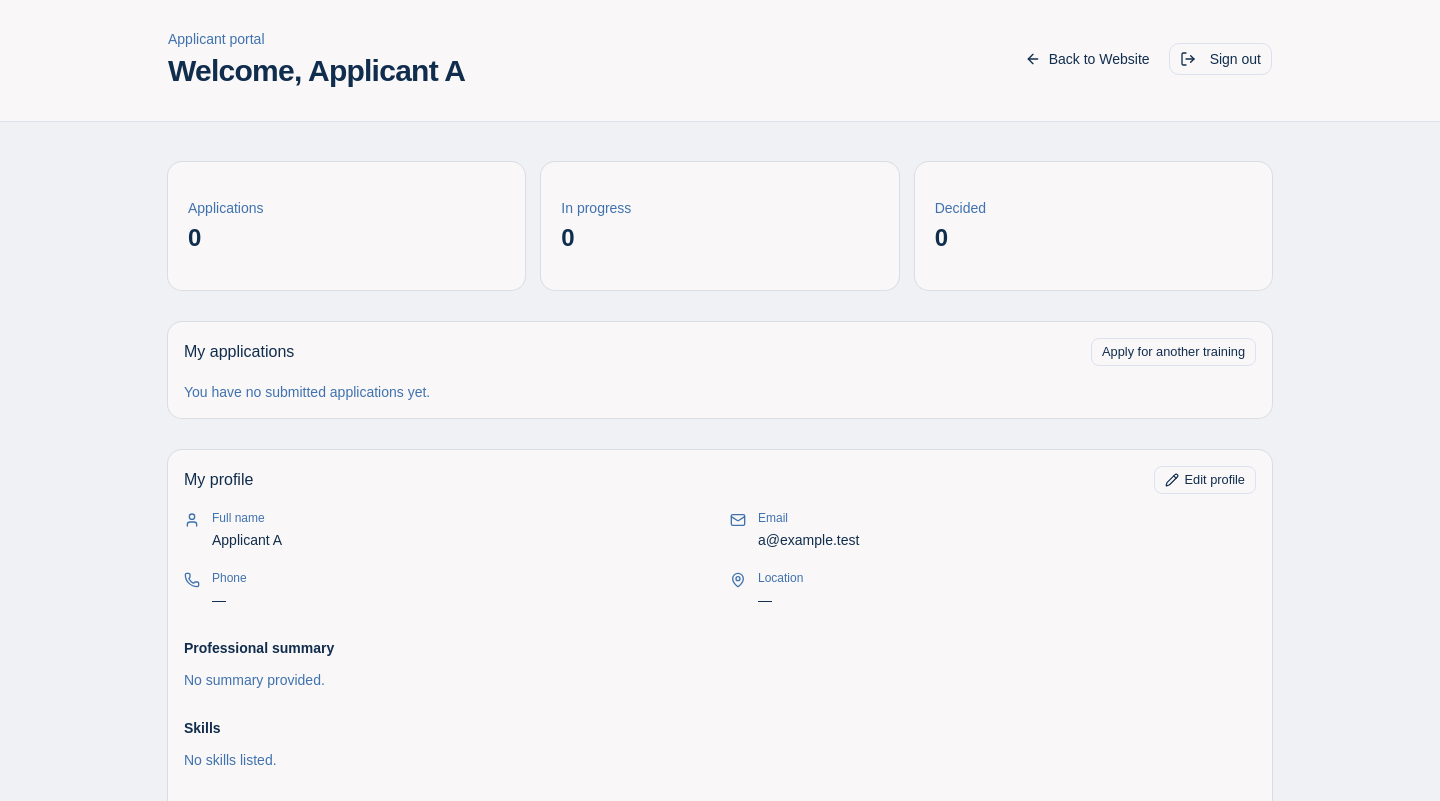
Test: ApplicantProfile: cache isolation between accounts › saves normally for the same user
This screenshot has width=1440, height=801.
Click the button "Edit profile" at (1205, 480), box x1=1154 y1=466 x2=1256 y2=494
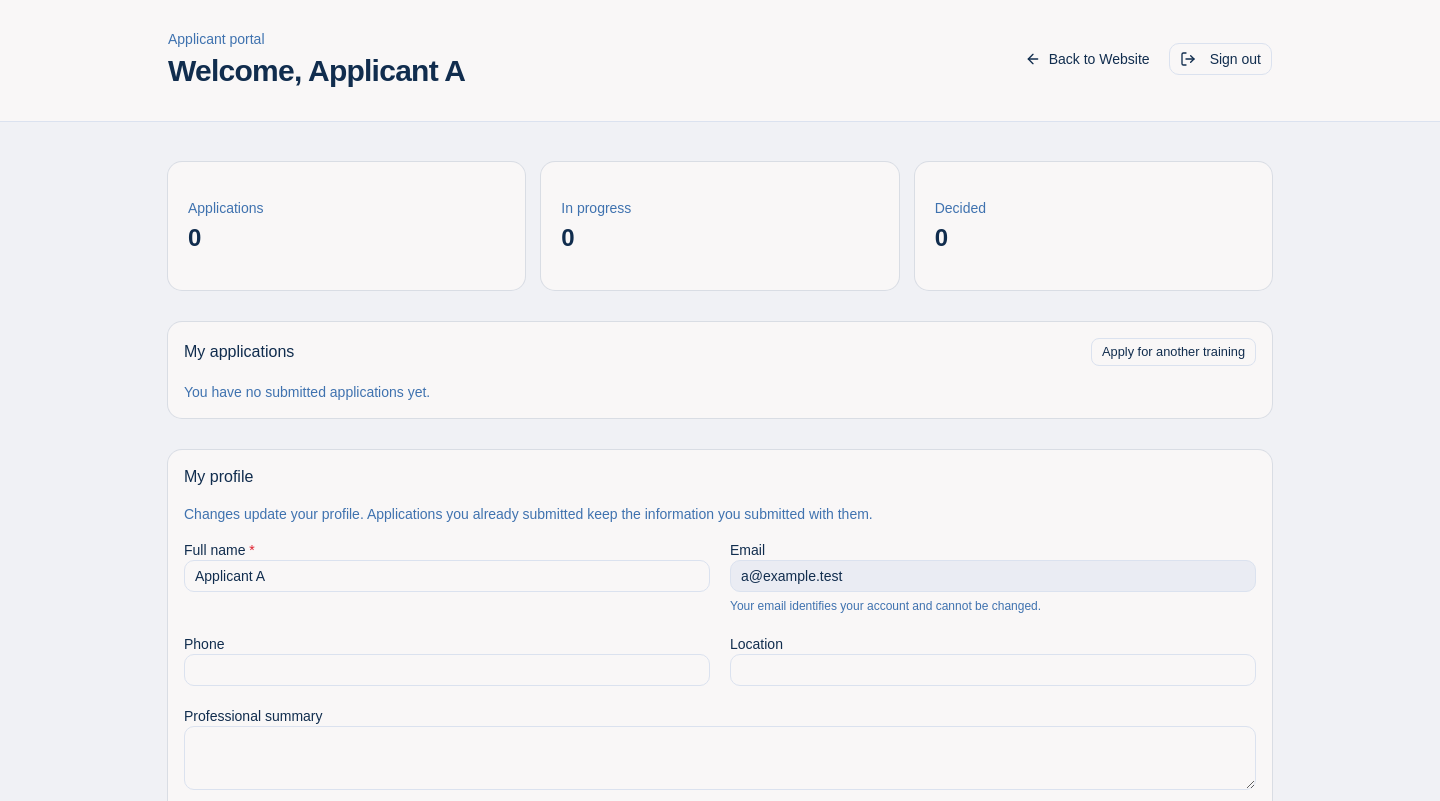
Replace the text in the field labelled "Full name *" with "Applicant A Renamed" at (447, 576), box x1=184 y1=560 x2=710 y2=592
(page scrolled)
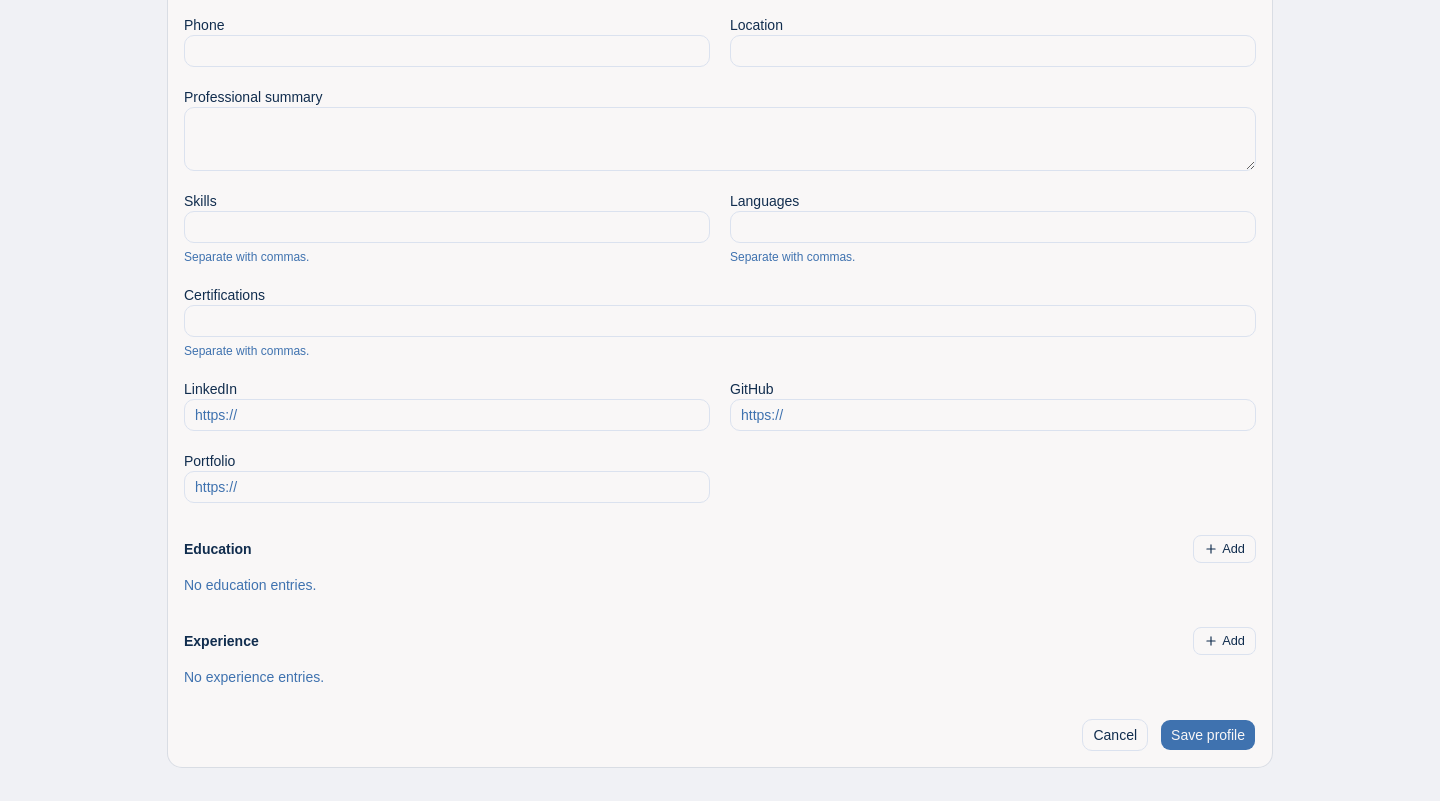
Click the button "Save profile" at (1208, 735), box x1=1160 y1=719 x2=1256 y2=751
(page scrolled)
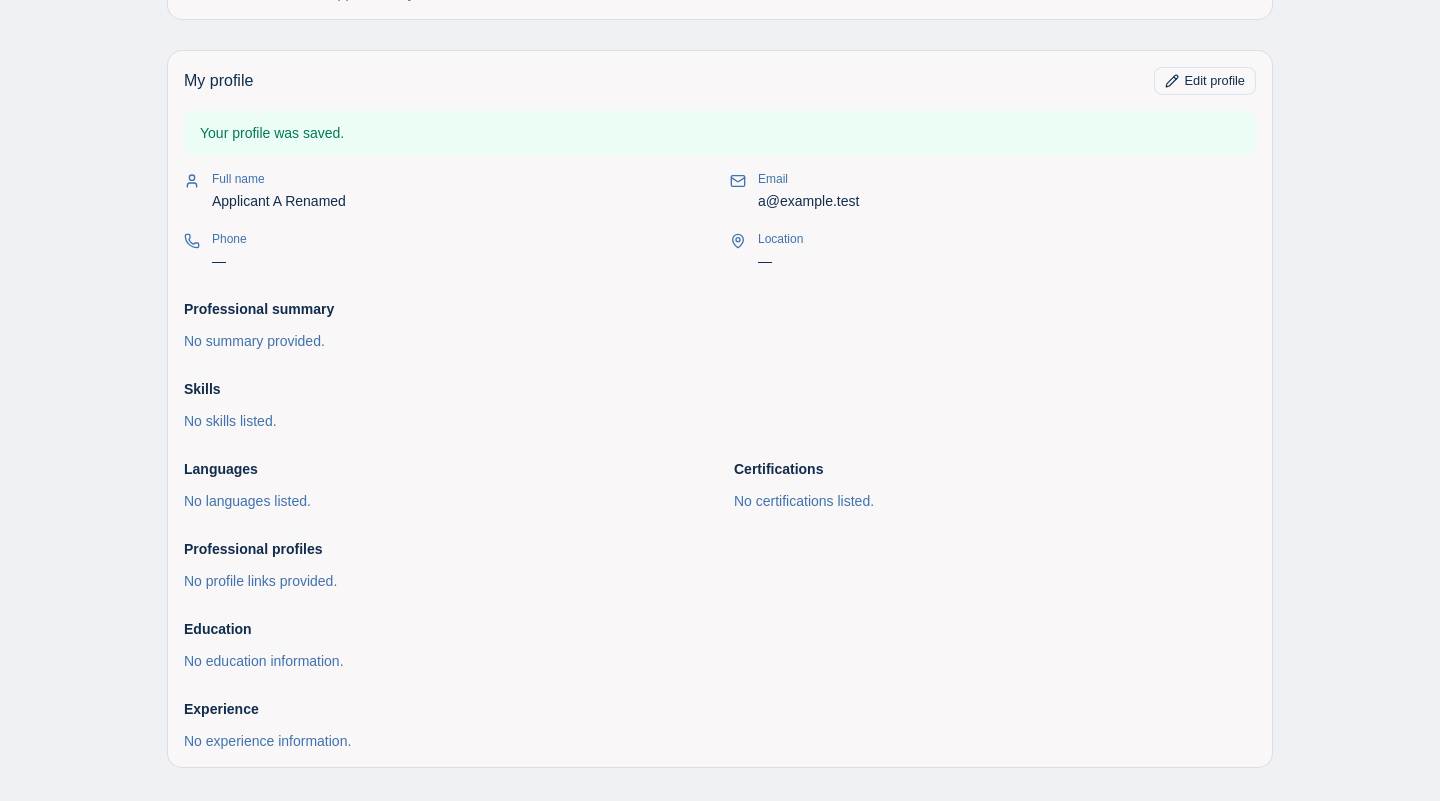
Result: the text "Your profile was saved." is shown at x1=184 y1=111 x2=1256 y2=155
Result: the text "Applicant A Renamed" is shown at x1=212 y1=191 x2=346 y2=211
